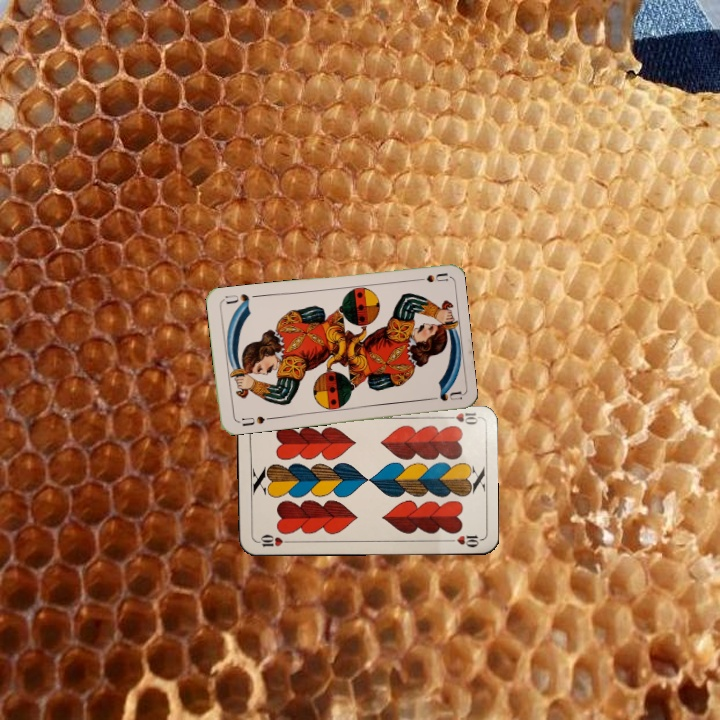H10: (253, 531, 293, 550), (441, 409, 481, 427)
SU: (408, 269, 449, 285), (238, 412, 274, 429)
